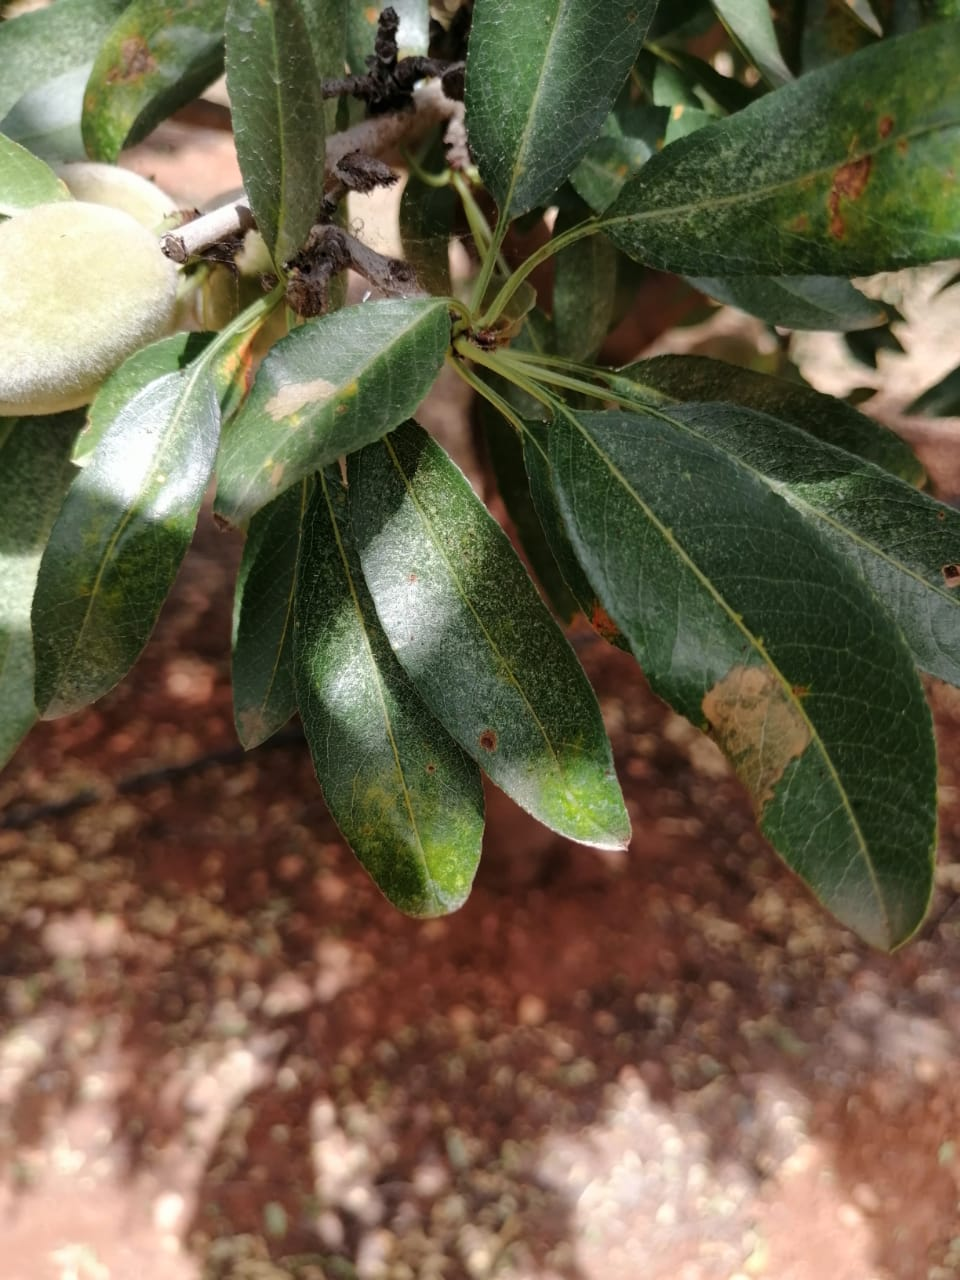acariens: (544, 404, 937, 954), (349, 417, 632, 856), (602, 17, 960, 281), (30, 368, 222, 725)
